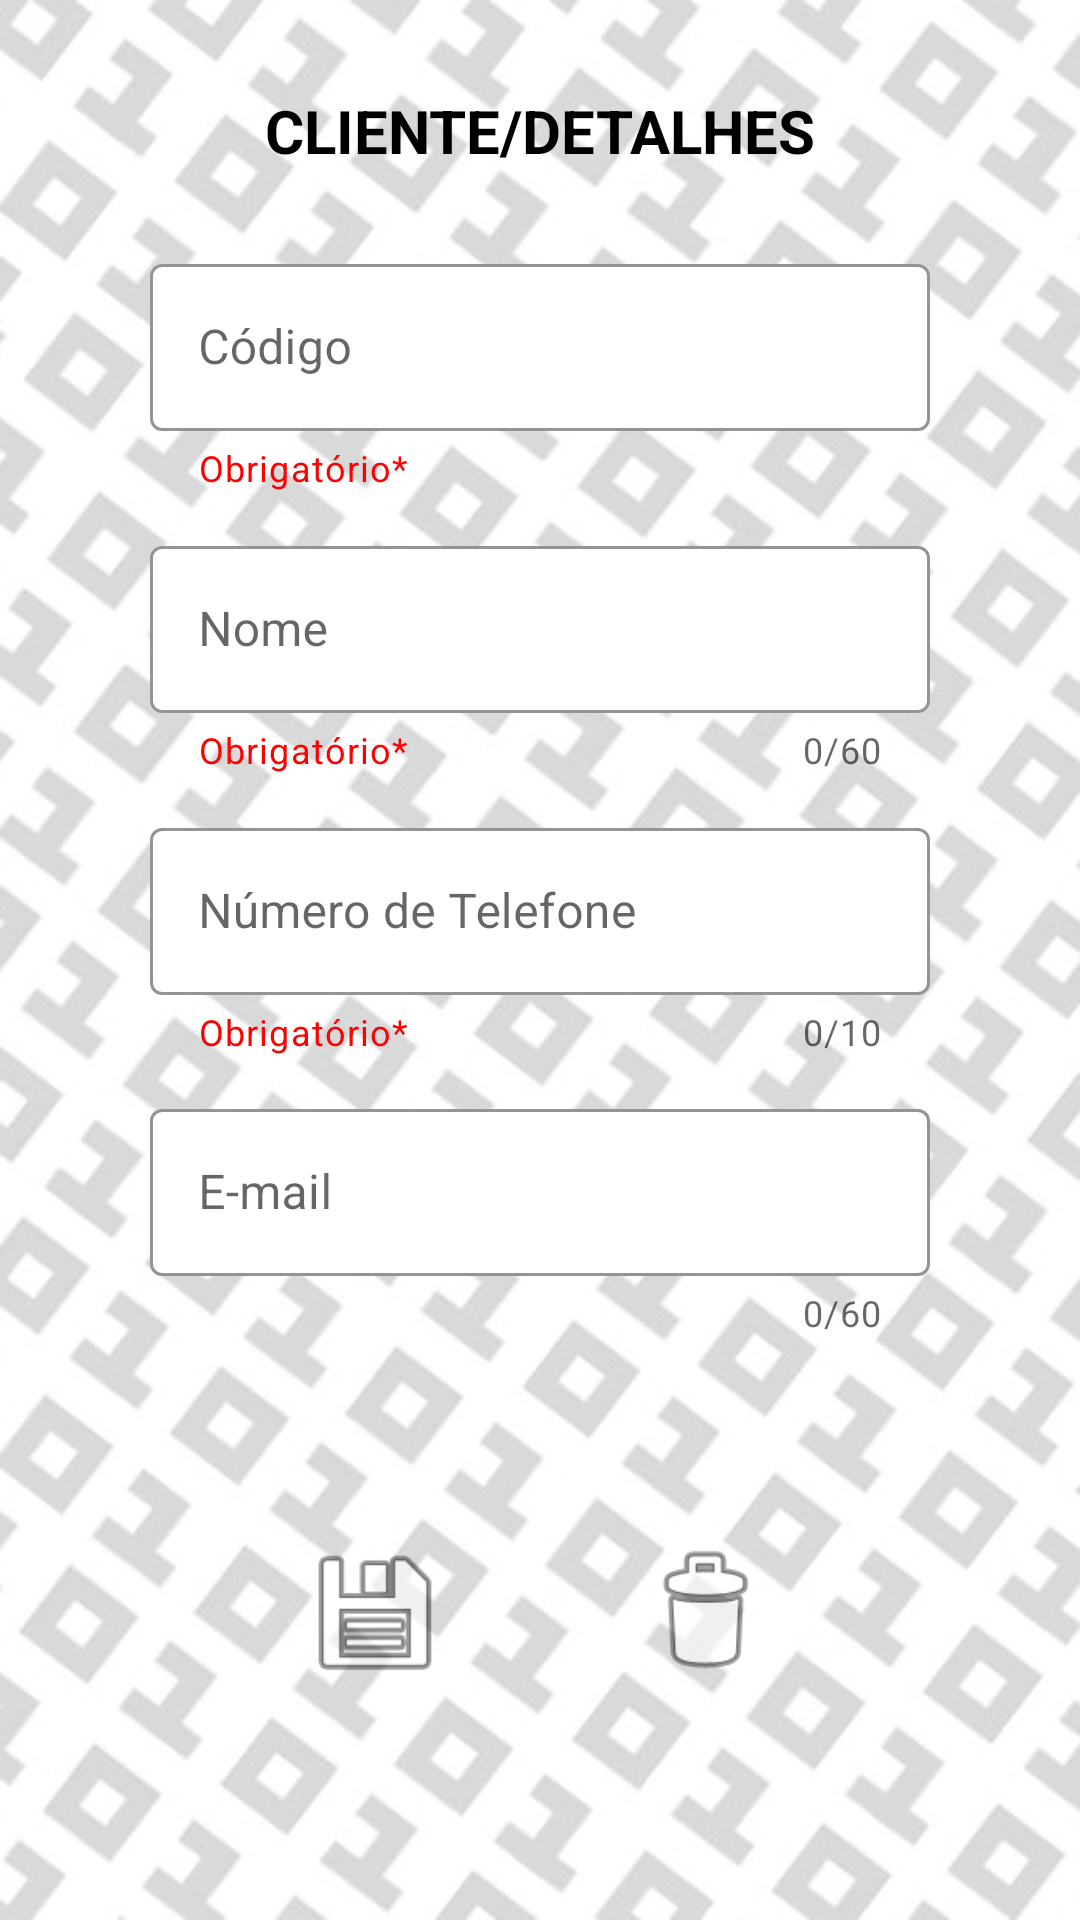

Screen size 1080 × 1920. Icon name, then its box in pixels as (x1, y1, x2, y2):
delete: (647, 1551, 748, 1687)
save: (300, 1537, 450, 1687)
